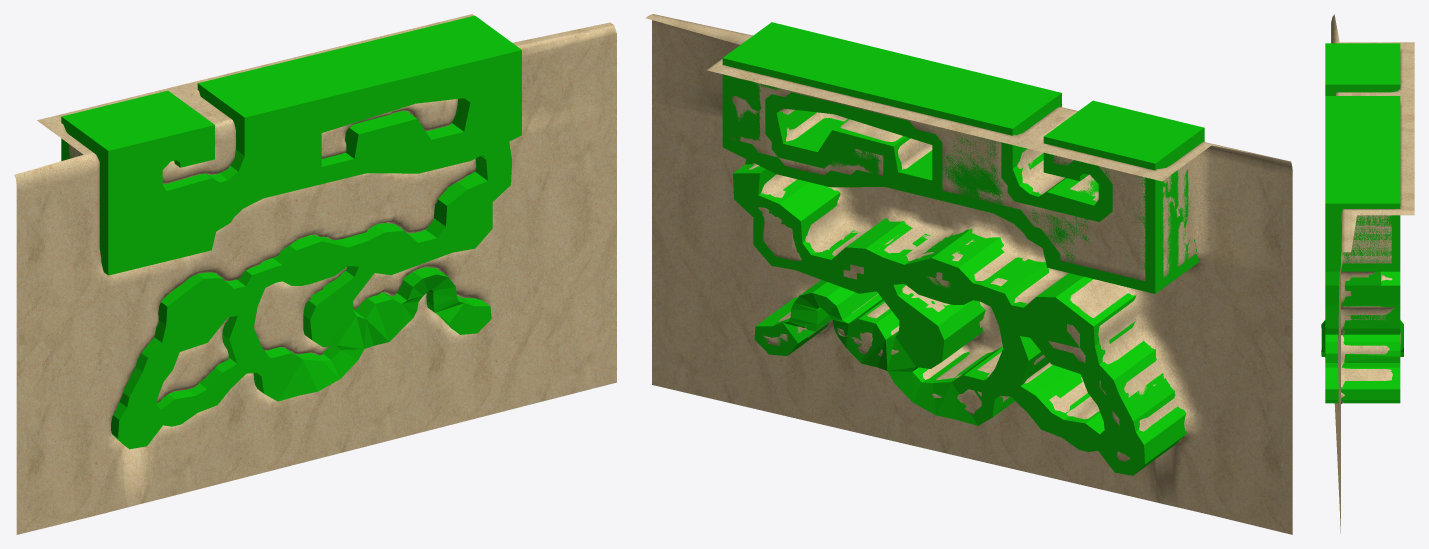
Rendered from E3M1.Display.obj.
The picture shows the model from 3 angles, left to right: view 1: azimuth 30°, elevation 25°; view 2: azimuth 150°, elevation 25°; view 3: azimuth 270°, elevation 25°; orthographic projection. The views are drawn at different scales.
Parts seen in each view (by area): view 1: World.Display, World.MeshShape; view 2: World.Display, World.MeshShape; view 3: World.MeshShape, World.Display.
Part boxes in pixels (<box>): World.Display: <box>14,14,616,534</box>; World.MeshShape: <box>61,15,521,449</box>; World.Display: <box>645,14,1292,534</box>; World.MeshShape: <box>722,22,1204,475</box>; World.MeshShape: <box>1321,43,1403,403</box>; World.Display: <box>1331,14,1414,533</box>.
Size of the model in its own units: 96.82 by 55.68 by 16.18.
